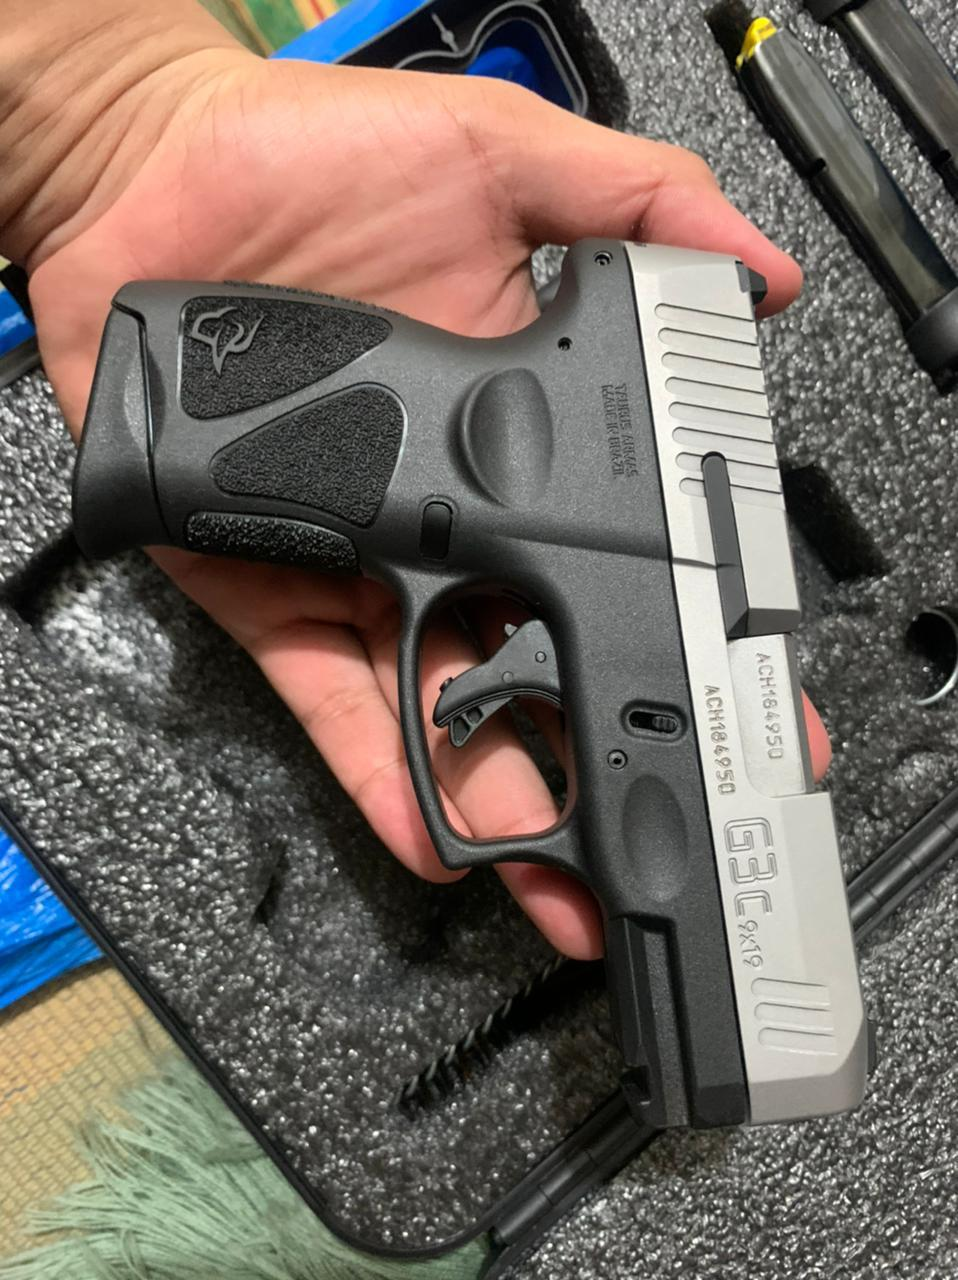weapon: (71, 239, 873, 1128)
